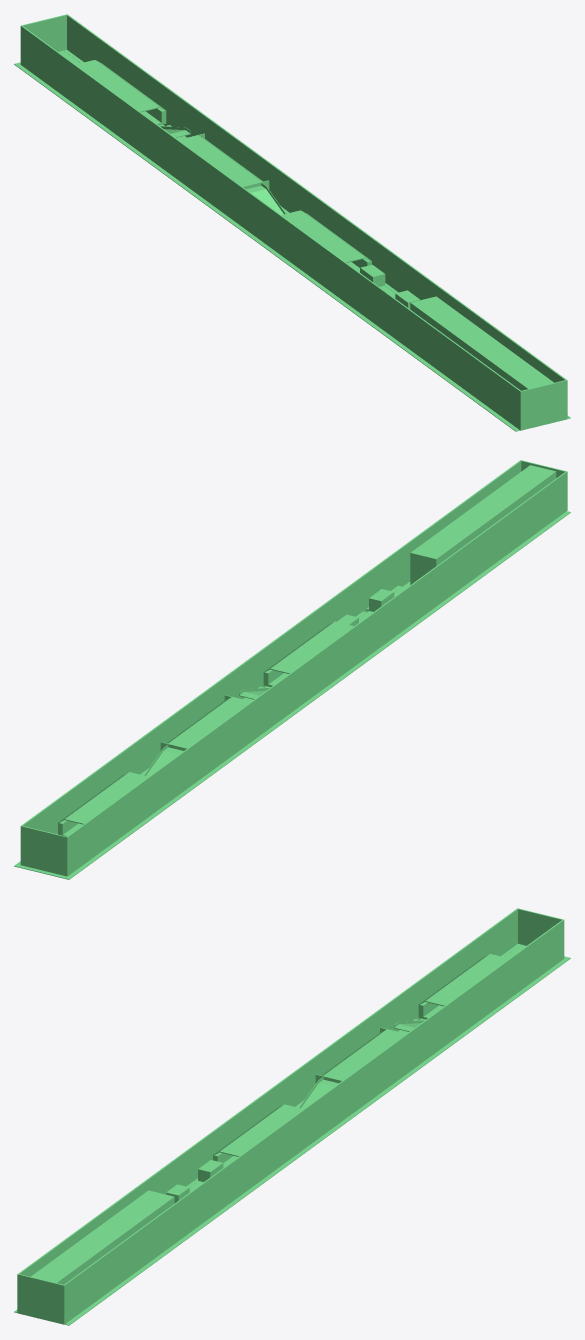
The model's file is TrainStageCol.fbx.
The picture shows the model from 3 angles, top to bottom: view 1: azimuth 30°, elevation 25°; view 2: azimuth 150°, elevation 25°; view 3: azimuth 330°, elevation 25°; orthographic projection.
Visible parts, largest first — view 1: TrainStageCol; view 2: TrainStageCol; view 3: TrainStageCol.
Boxes of the visible parts, x1=… form: TrainStageCol: x1=14, y1=14, x2=570, y2=431; TrainStageCol: x1=14, y1=460, x2=570, y2=879; TrainStageCol: x1=14, y1=908, x2=570, y2=1325.
Size of the model in its own units: 20 by 13.7 by 315.
